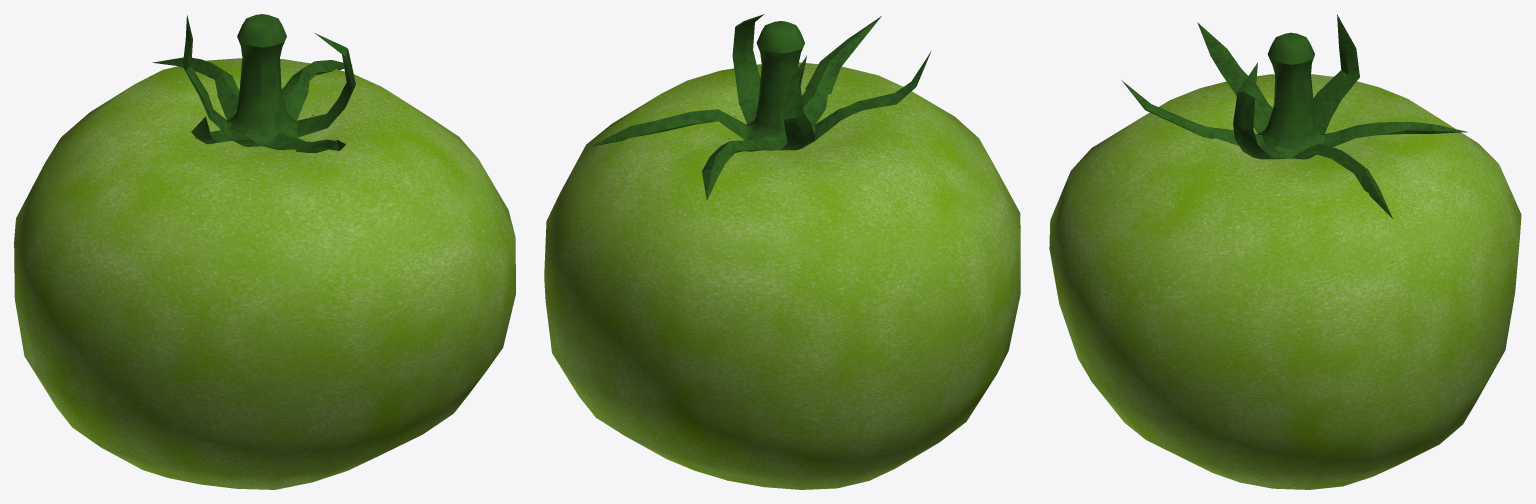
File: tomato13.fbx
The picture shows the model from 3 angles, left to right: view 1: azimuth 30°, elevation 25°; view 2: azimuth 150°, elevation 25°; view 3: azimuth 270°, elevation 25°; orthographic projection. The views are drawn at different scales.
Visible parts, largest first — view 1: Tomato13; view 2: Tomato13; view 3: Tomato13.
Boxes of the visible parts, <box> form: Tomato13: <box>14,14,515,489</box>; Tomato13: <box>544,14,1020,489</box>; Tomato13: <box>1049,14,1521,489</box>.
Size of the model in its own units: 6.07 by 5.97 by 6.
Materials: 1 (1 with a texture image).
